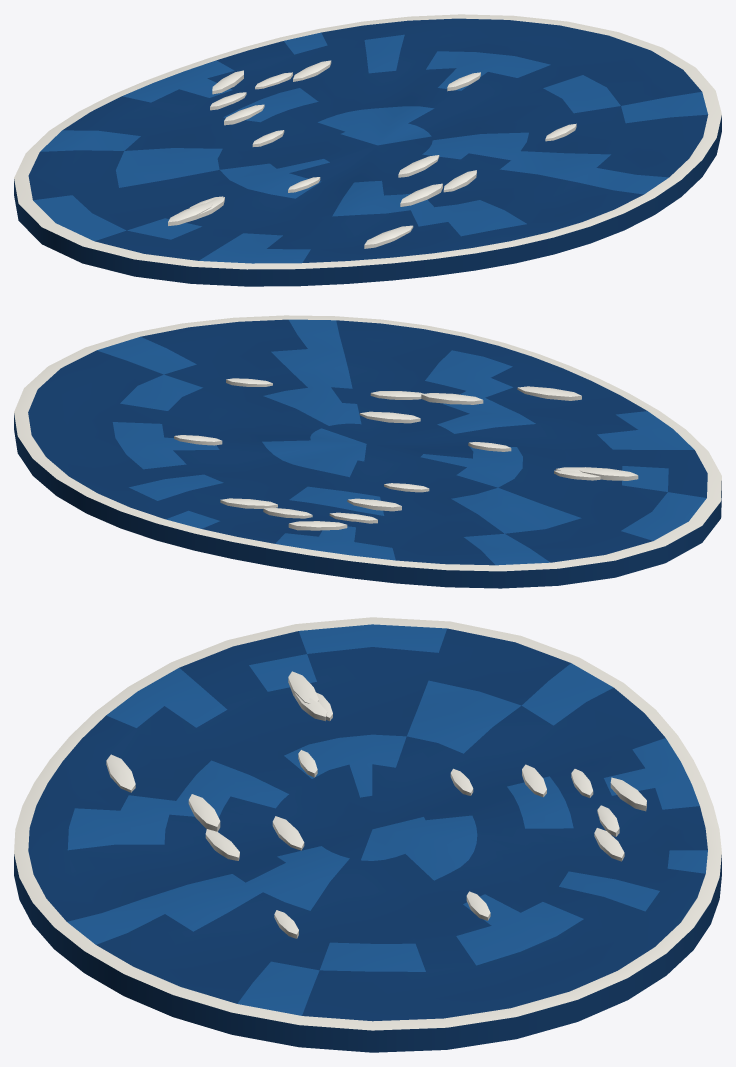
File: ocean_patch.glb
3 renders of one model, top to bottom at view 1: azimuth 30°, elevation 25°; view 2: azimuth 150°, elevation 25°; view 3: azimuth 270°, elevation 25°, orthographic. The views are drawn at different scales.
Parts seen in each view (by area): view 1: body; view 2: body; view 3: body.
Part boxes in pixels (x1,y1,x2,y2): body: (14, 14, 721, 286); body: (14, 315, 721, 588); body: (14, 617, 721, 1052).
Size of the model in its own units: 200 by 7.04 by 145.
